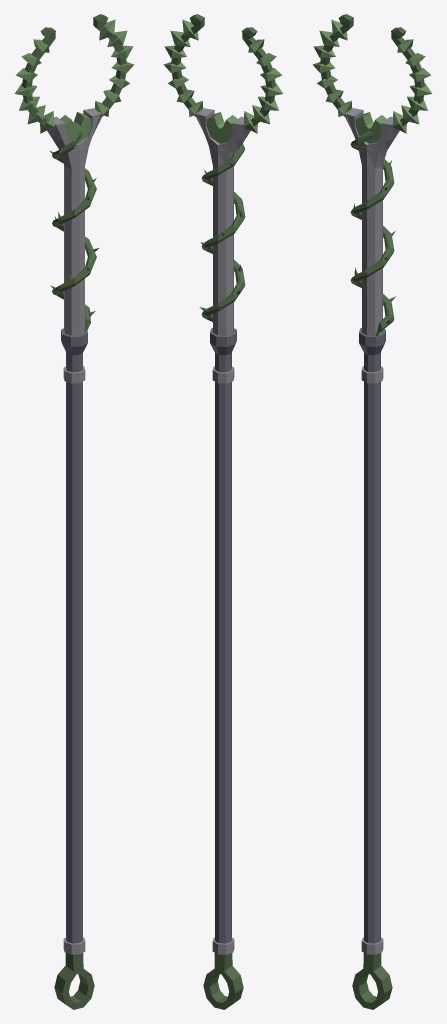
Rendered from Lanca_B17.fbx.
The picture shows the model from 3 angles, left to right: view 1: azimuth 30°, elevation 25°; view 2: azimuth 150°, elevation 25°; view 3: azimuth 330°, elevation 25°; orthographic projection.
Visible parts, largest first — view 1: polearm_17; view 2: polearm_17; view 3: polearm_17.
Part boxes in pixels (bbox=[...]): polearm_17: bbox=[14, 14, 134, 1009]; polearm_17: bbox=[163, 14, 283, 1009]; polearm_17: bbox=[312, 14, 432, 1009].
Bounding box in the file's own units: 26.47 × 207 × 9.67.
